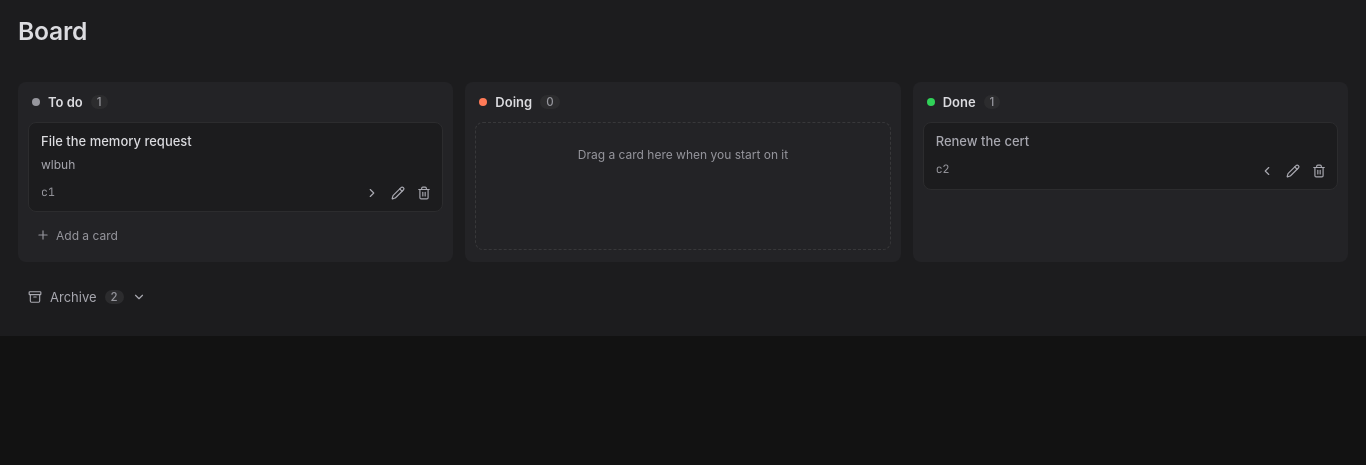
Test case: the board page › a card is added to To do from its title and note; Enter in the title saves, an empty title cannot
The width and height of the screenshot is (1366, 465).
Click the button "Add a card": x=87, y=235 left=28, top=220, right=443, bottom=250
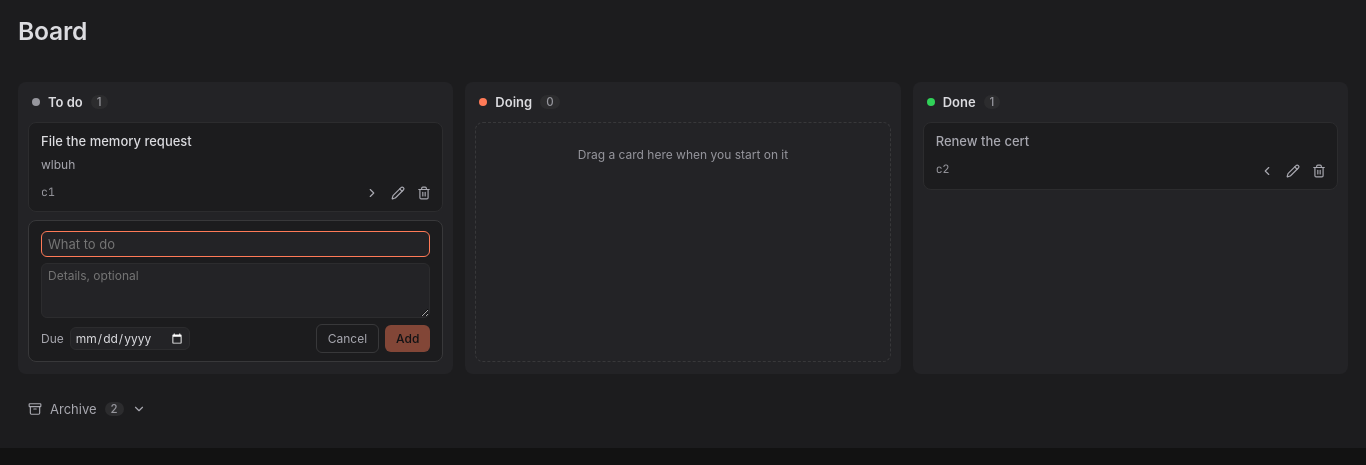
expect the button "Add" is disabled: met, box left=385, top=325, right=430, bottom=352
In the field named "Title": x=236, y=244 left=41, top=231, right=430, bottom=257, type "Call the bank"
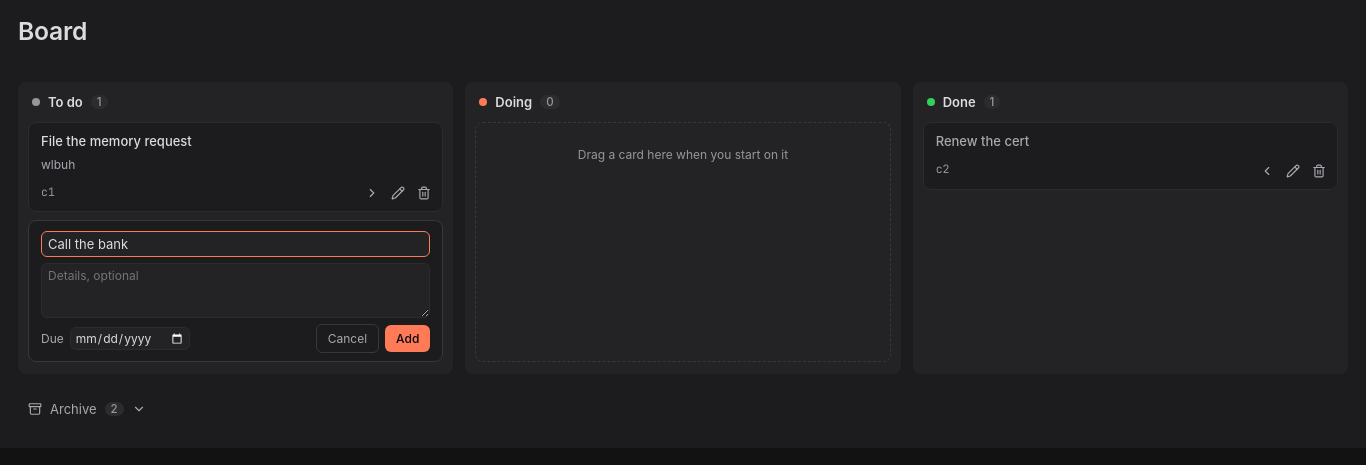
In the text box named "Note": x=236, y=291 left=41, top=263, right=430, bottom=318, type "about the card"
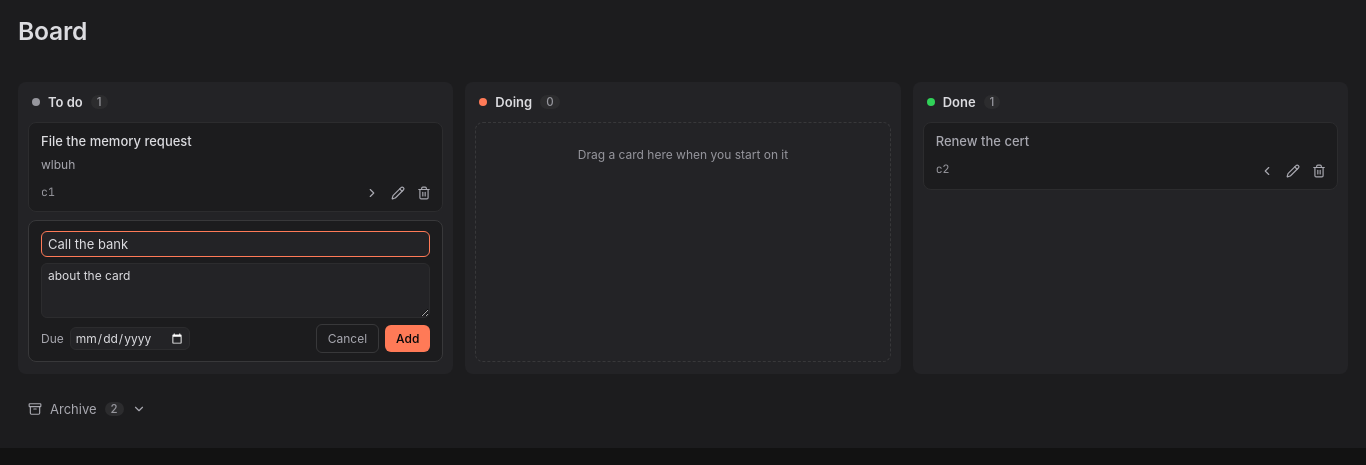
Press Enter in the field named "Title", box left=41, top=231, right=430, bottom=257
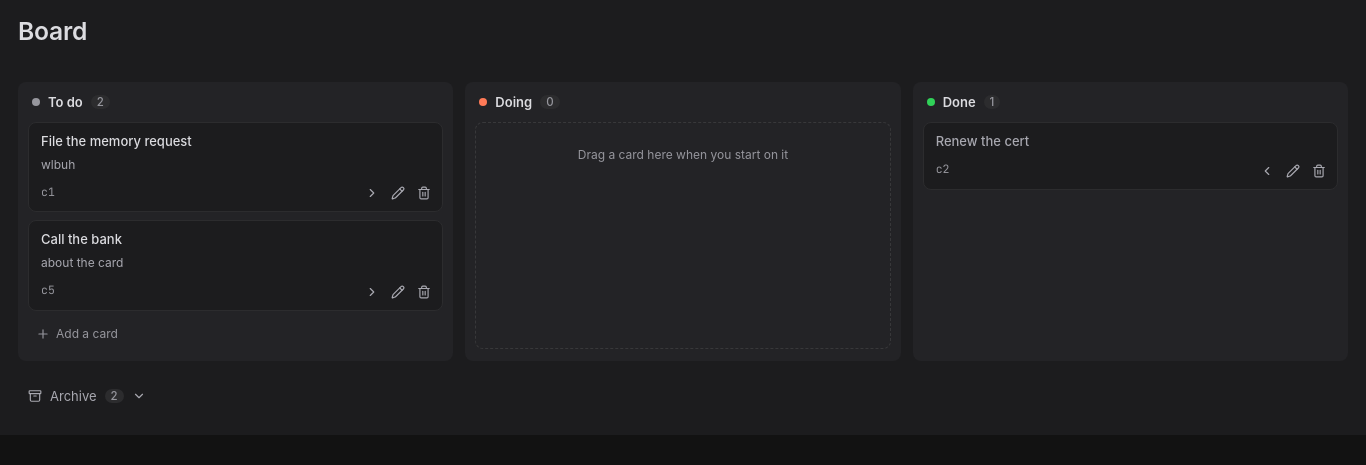
expect the text "Call the bank" is shown: met, box left=41, top=231, right=122, bottom=247
